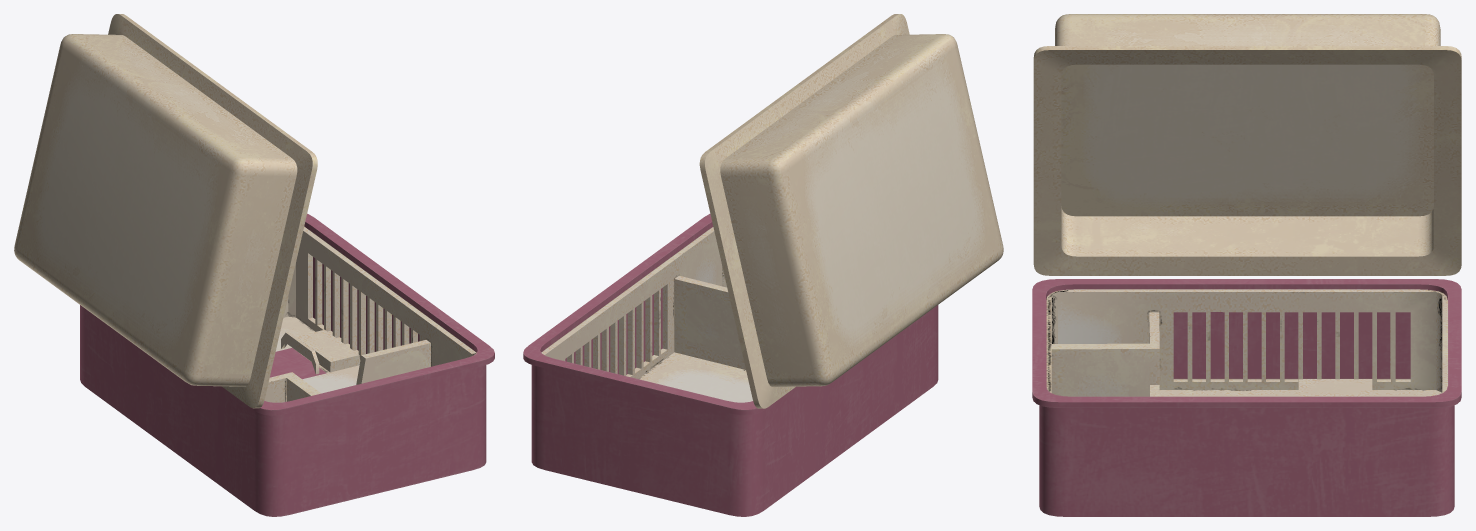
File: dish rack_lp.FBX
3 views of the same model, side by side, from view 1: azimuth 30°, elevation 25°; view 2: azimuth 150°, elevation 25°; view 3: azimuth 270°, elevation 25° (orthographic). The views are drawn at different scales.
Parts seen in each view (by area): view 1: Dish Rack_lp_final; view 2: Dish Rack_lp_final; view 3: Dish Rack_lp_final.
Boxes of the visible parts, left/top/right/bottom form: Dish Rack_lp_final: left=14, top=14, right=494, bottom=516; Dish Rack_lp_final: left=523, top=14, right=1003, bottom=516; Dish Rack_lp_final: left=1032, top=14, right=1461, bottom=516.
Bounding box in the file's own units: 57.14 × 64.25 × 66.25.
1 material, 1 textured.
